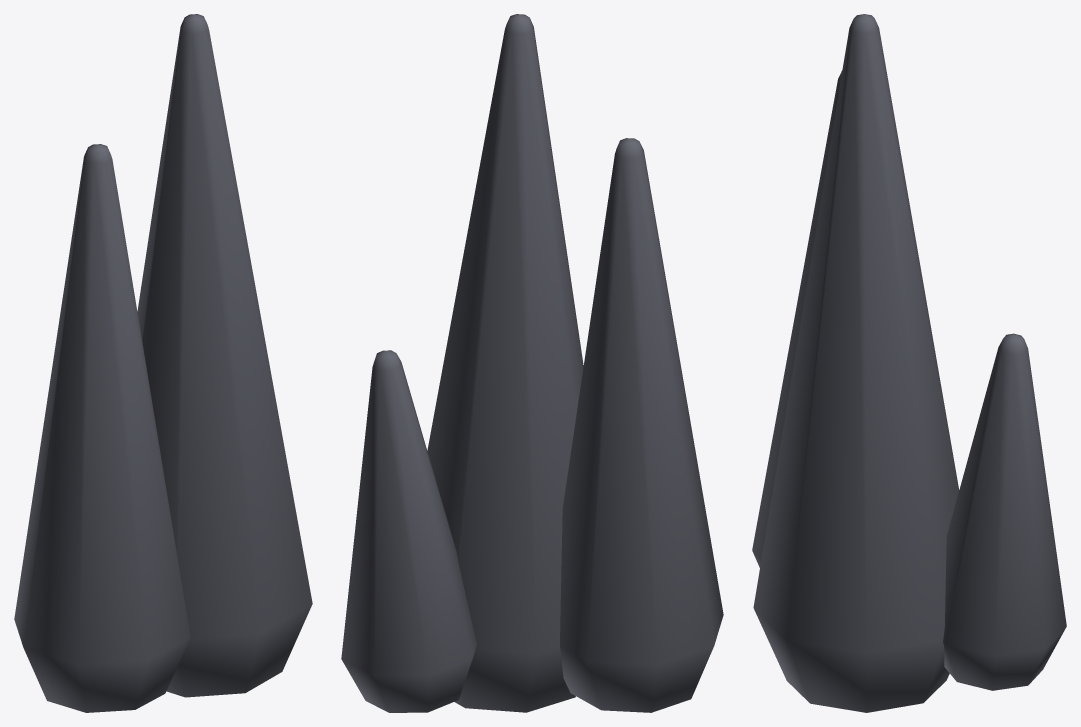
Rendered from prop_stalag2_4dff.glb.
3 renders of one model, left to right at view 1: azimuth 30°, elevation 25°; view 2: azimuth 150°, elevation 25°; view 3: azimuth 270°, elevation 25°, orthographic. The views are drawn at different scales.
Parts seen in each view (by area): view 1: prop_stalag2_4dff; view 2: prop_stalag2_4dff; view 3: prop_stalag2_4dff.
Boxes of the visible parts, x1,y1,x2,y2 form: prop_stalag2_4dff: (14, 14, 312, 712); prop_stalag2_4dff: (341, 14, 723, 712); prop_stalag2_4dff: (752, 14, 1066, 712).
Size of the model in its own units: 0.501 by 1.13 by 0.4675.
1 material, 1 textured.
